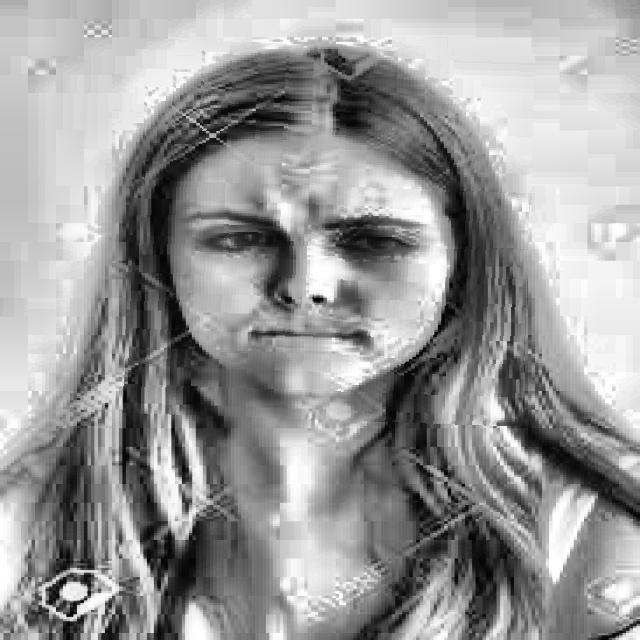sad: (126, 42, 532, 423)
